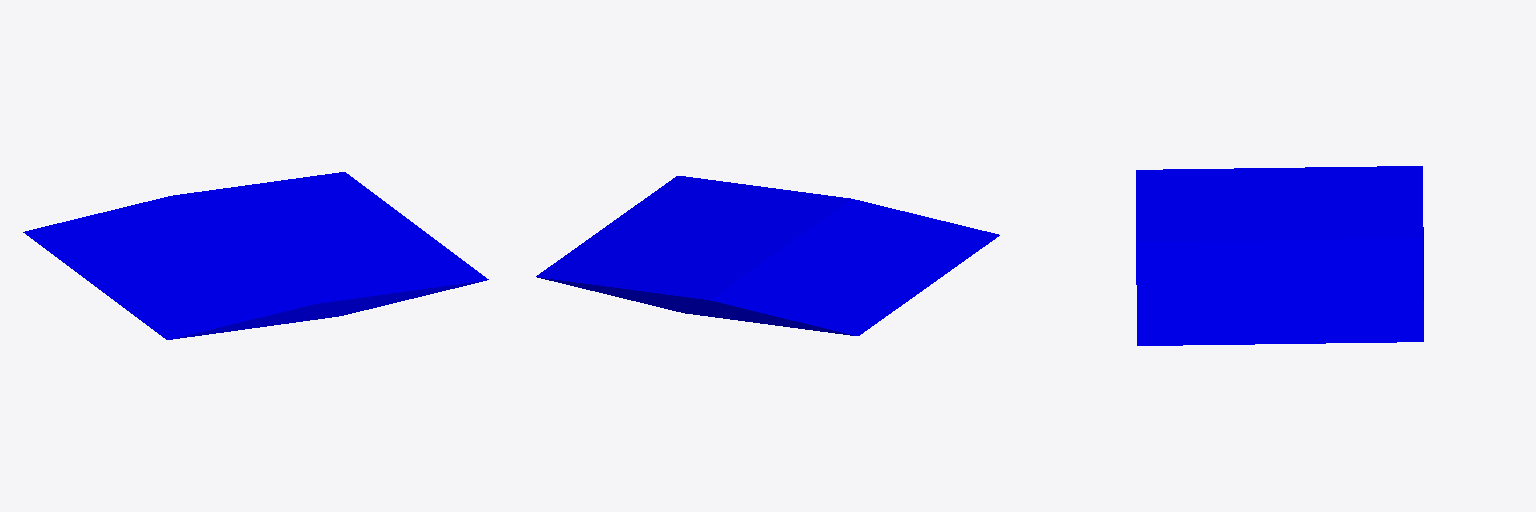
Rendered from planes_1-dynamic - BLK2GO-3630355-Scan 080 48.obj.
3 views of the same model, side by side, from view 1: azimuth 30°, elevation 25°; view 2: azimuth 150°, elevation 25°; view 3: azimuth 270°, elevation 25° (orthographic).
Parts seen in each view (by area): view 1: 1-dynamic_-_BLK2GO-[number redacted]-Scan_080_48_0; view 2: 1-dynamic_-_BLK2GO-[number redacted]-Scan_080_48_0; view 3: 1-dynamic_-_BLK2GO-[number redacted]-Scan_080_48_0.
Part boxes in pixels (left/top/right/bottom): 1-dynamic_-_BLK2GO-[number redacted]-Scan_080_48_0: left=23, top=172, right=488, bottom=339; 1-dynamic_-_BLK2GO-[number redacted]-Scan_080_48_0: left=536, top=176, right=999, bottom=335; 1-dynamic_-_BLK2GO-[number redacted]-Scan_080_48_0: left=1136, top=166, right=1423, bottom=345.
Size of the model in its own units: 2.2 by 0.1456 by 1.69.